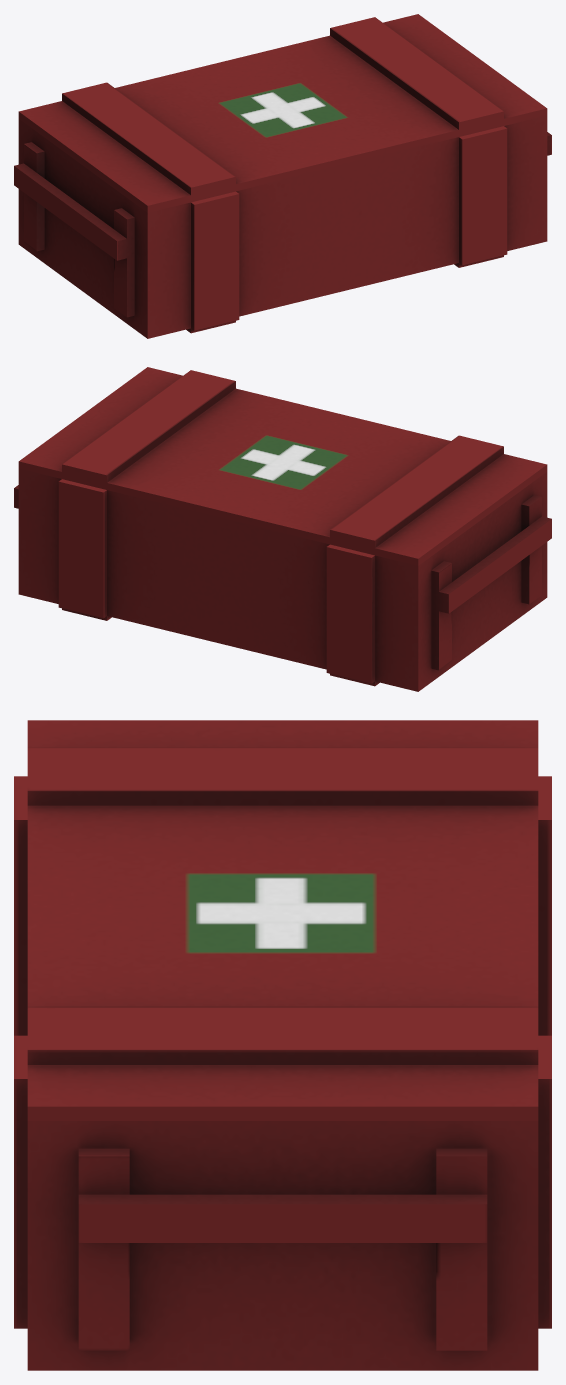
Rendered from Crate_Med.fbx.
3 renders of one model, top to bottom at view 1: azimuth 30°, elevation 25°; view 2: azimuth 150°, elevation 25°; view 3: azimuth 270°, elevation 25°, orthographic. The views are drawn at different scales.
Parts seen in each view (by area): view 1: Crate_Medicine, Crate_Short_Top; view 2: Crate_Medicine, Crate_Short_Top; view 3: Crate_Short_Top, Crate_Medicine.
Part boxes in pixels (box(x1,y1,x2,y2)): Crate_Medicine: box(14, 115, 551, 338); Crate_Short_Top: box(18, 14, 547, 212); Crate_Medicine: box(14, 468, 551, 691); Crate_Short_Top: box(18, 367, 547, 565); Crate_Short_Top: box(27, 720, 538, 1120); Crate_Medicine: box(14, 776, 551, 1370).
Bounding box in the file's own units: 15.88 × 5.08 × 8.58.
